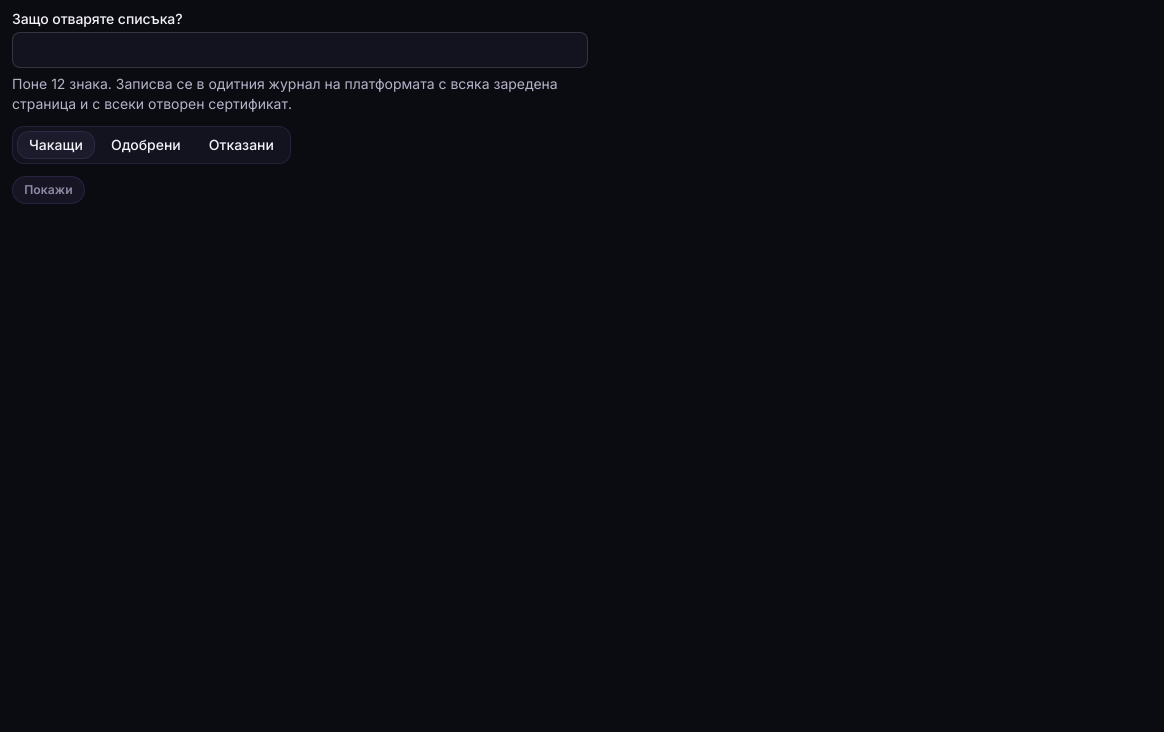
Test case: opening the list › the approved list offers removal only; the declined one is read-only
Type "approving the pilot coaches, 14 October" into the field labelled "Защо отваряте списъка?" at (300, 50), box [12, 32, 588, 68]
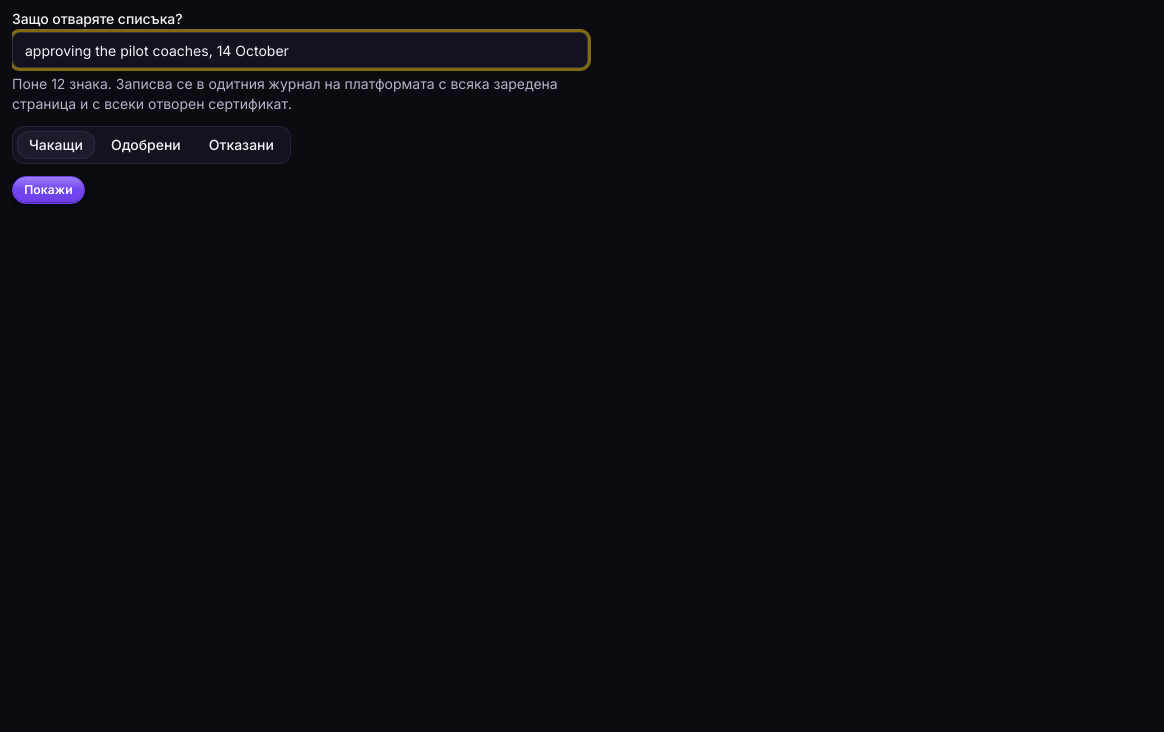
Click the radio button labelled "Одобрени" at (146, 145), box [99, 131, 193, 159]
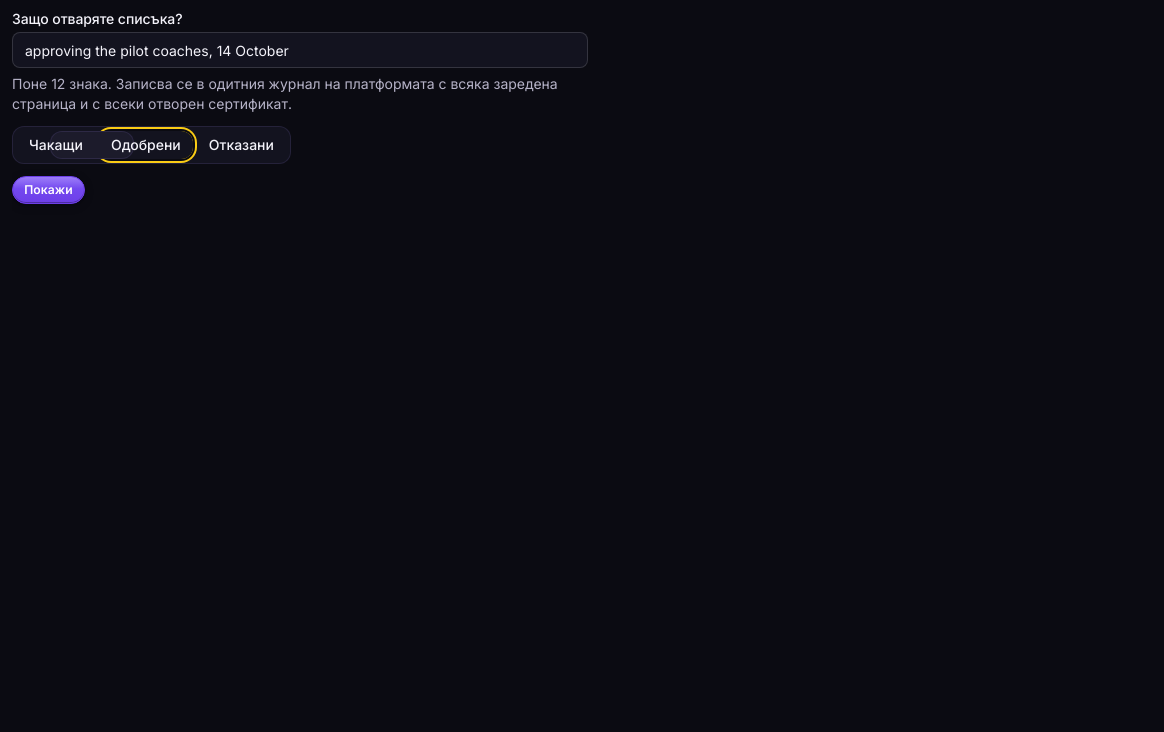
Click the button "Покажи" at (48, 190), box [12, 176, 85, 204]
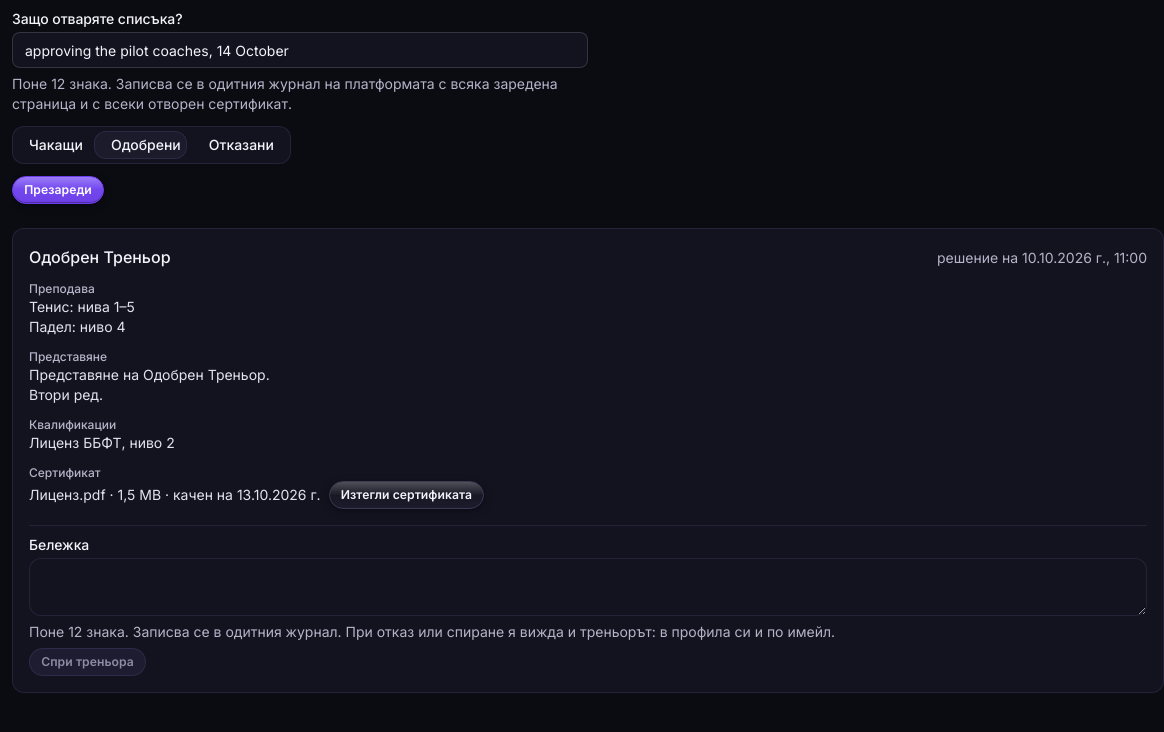
Result: the button "Спри треньора" is shown at [29, 648, 146, 676]
Click the radio button labelled "Отказани" at (241, 145), box [197, 131, 286, 159]
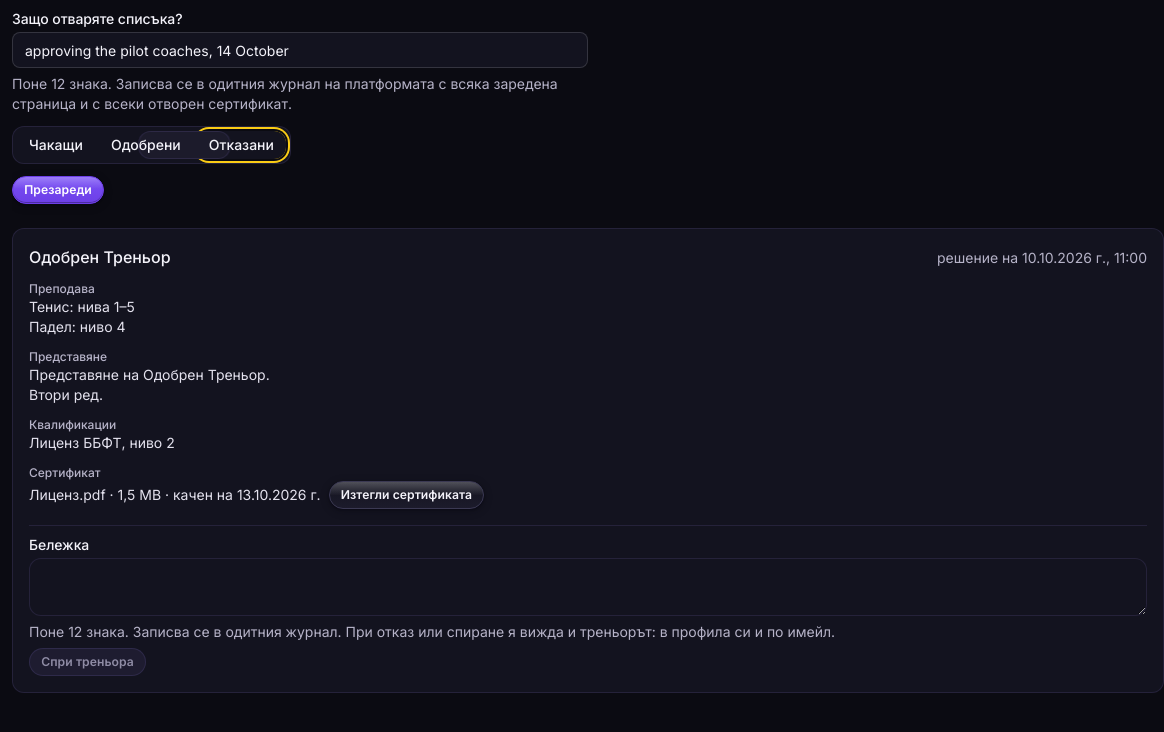
Click the button "Презареди" at (58, 190), box [12, 176, 104, 204]
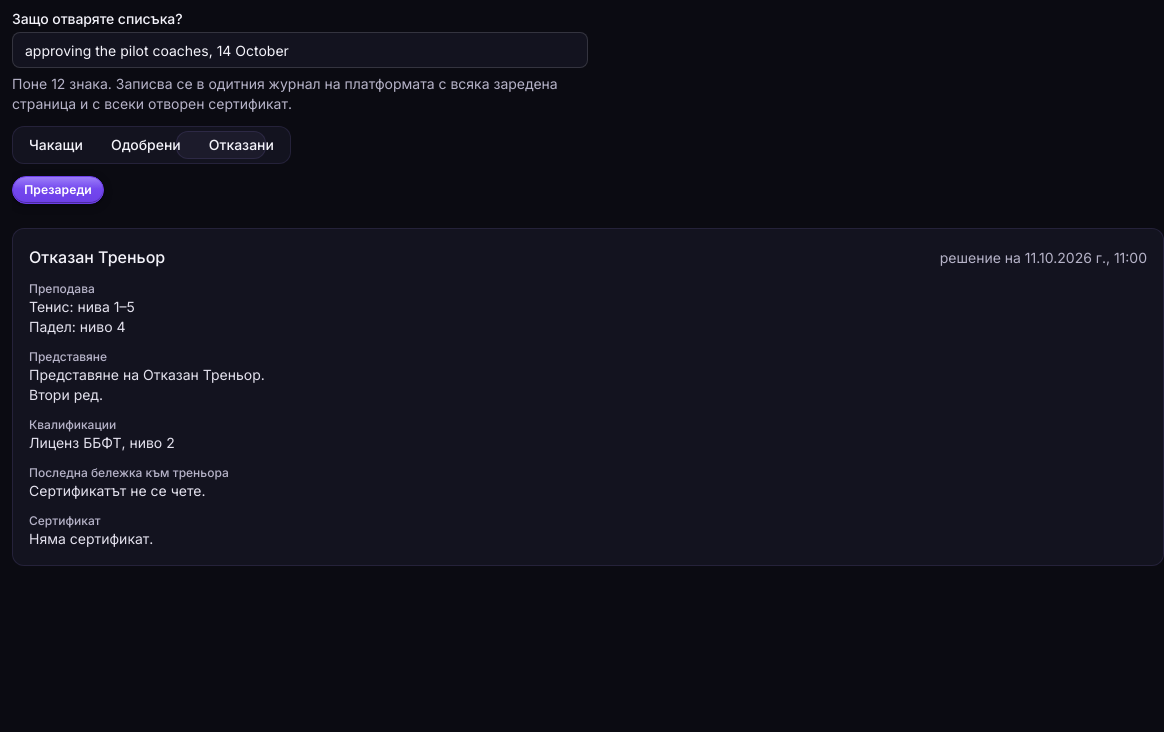
Result: the list item "Отказан Треньор" shows "Сертификатът не се чете." at [29, 482, 205, 499]
Result: the list item "Отказан Треньор" shows "Няма сертификат." at [29, 530, 153, 547]
Result: the button "Изтегли сертификата" is gone
